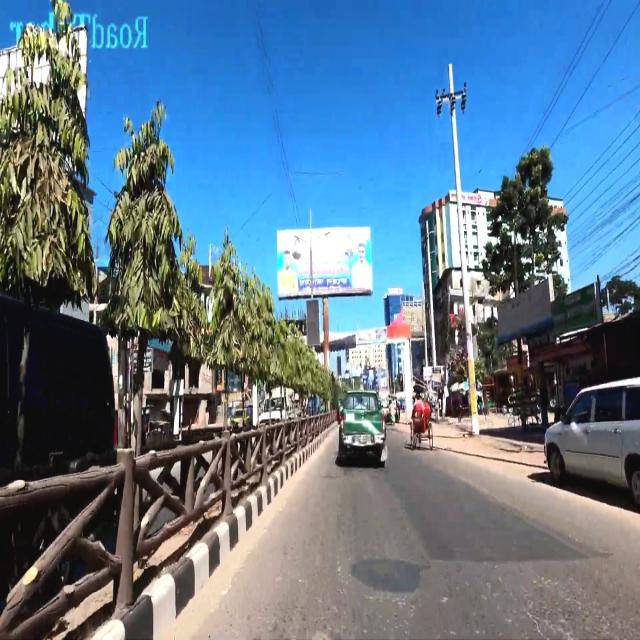white: (540, 373, 640, 489)
